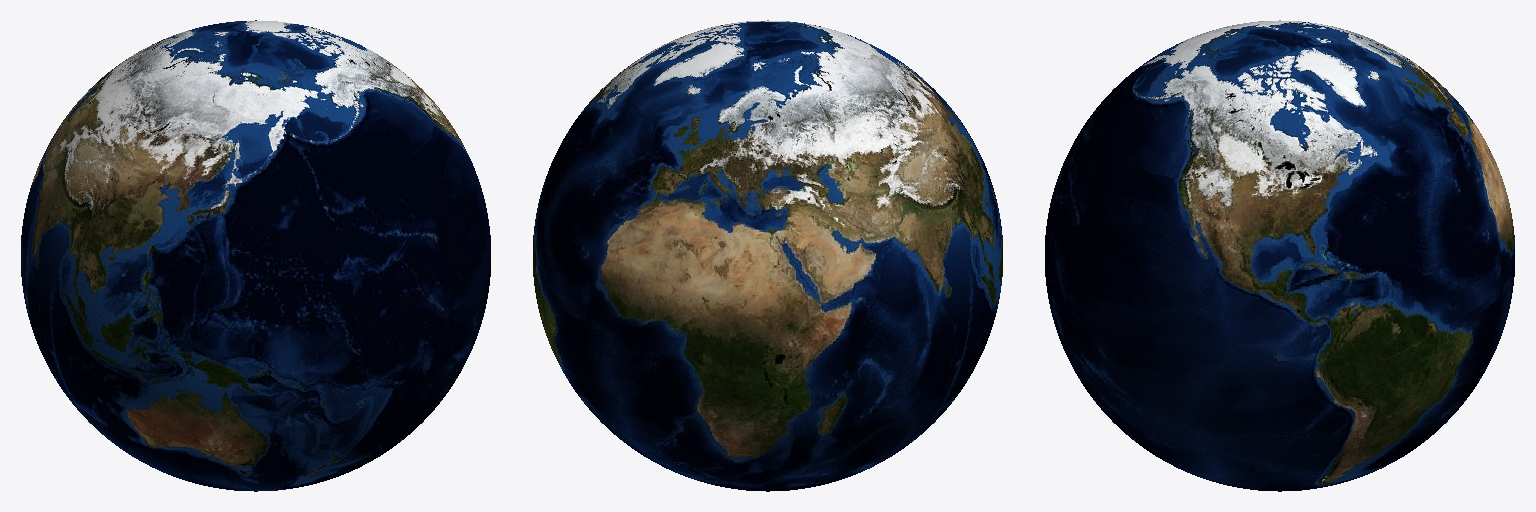
3 views of the same model, side by side, from view 1: azimuth 30°, elevation 25°; view 2: azimuth 150°, elevation 25°; view 3: azimuth 270°, elevation 25° (orthographic).
Parts seen in each view (by area): view 1: cylindrically_mapped_sphere.001; view 2: cylindrically_mapped_sphere.001; view 3: cylindrically_mapped_sphere.001.
Part boxes in pixels (x1,y1,x2,y2): cylindrically_mapped_sphere.001: (21, 20, 490, 491); cylindrically_mapped_sphere.001: (533, 20, 1002, 491); cylindrically_mapped_sphere.001: (1045, 20, 1514, 491).
Bounding box in the file's own units: 1000 × 1000 × 1000.
1 materials, 1 textured.